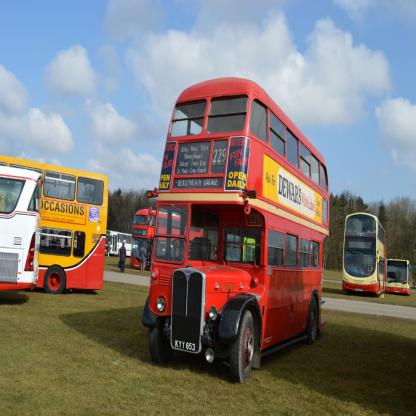Bus: (140, 73, 330, 385), (0, 152, 107, 293), (0, 167, 46, 290), (131, 206, 202, 272), (345, 211, 386, 297), (204, 233, 254, 264), (104, 231, 173, 252), (384, 259, 413, 297)
